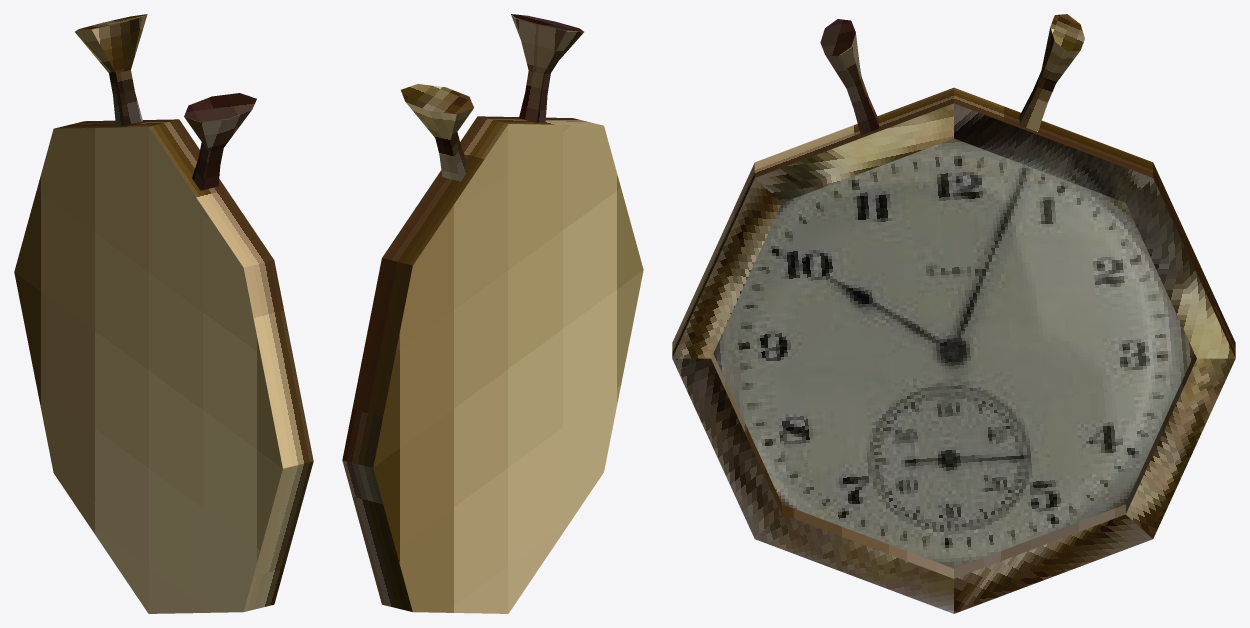
The model's file is watch.glb.
3 renders of one model, left to right at view 1: azimuth 30°, elevation 25°; view 2: azimuth 150°, elevation 25°; view 3: azimuth 270°, elevation 25°, orthographic. The views are drawn at different scales.
Visible parts, largest first — view 1: watch, right_button, left_button; view 2: watch, left_button, right_button; view 3: watch, right_button, left_button.
Boxes of the visible parts, x1,y1,x2,y2 form: watch: [14, 119, 313, 613]; right_button: [75, 14, 147, 125]; left_button: [184, 93, 256, 190]; watch: [342, 116, 643, 613]; left_button: [511, 14, 583, 122]; right_button: [401, 84, 473, 181]; watch: [672, 87, 1235, 613]; right_button: [1019, 14, 1084, 131]; left_button: [820, 19, 878, 135].
Size of the model in its own units: 0.4545 by 3.28 by 2.89.
Materials: 1 (1 with a texture image).
